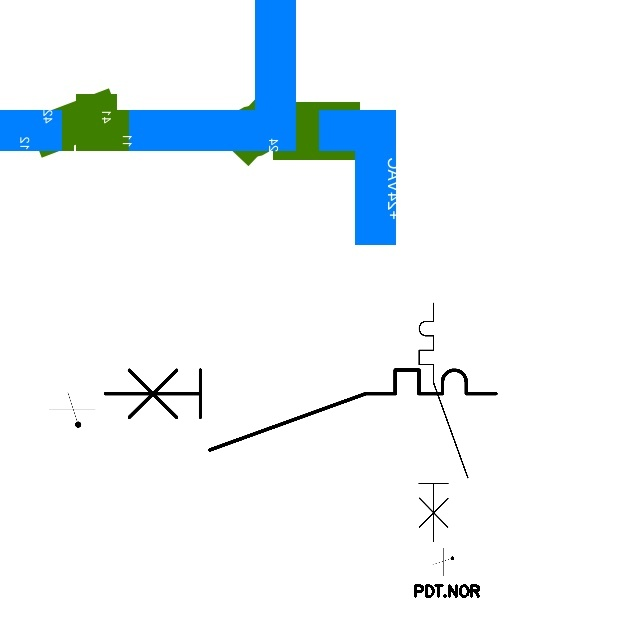interruptor_termomagnetico: (95, 360, 505, 460), (413, 297, 474, 547)
